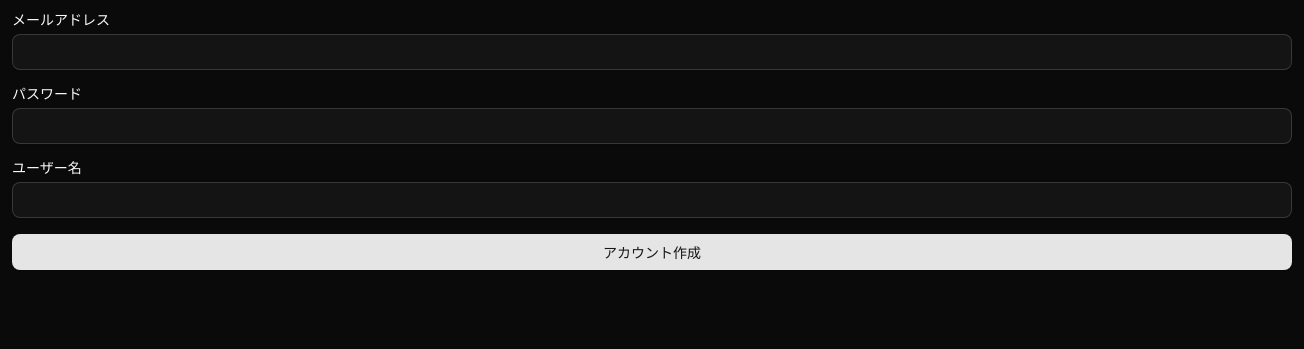
Test: SignupForm › shows fallback error when signup rejects with non-Error
In the field labelled "メールアドレス": [652, 52] box [12,34,1292,70], type "dj@example.com"
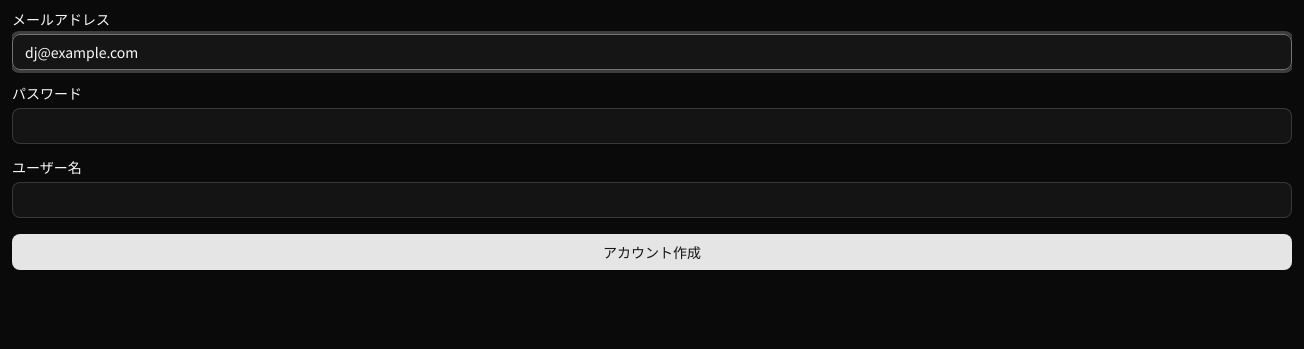
In the password field labelled "パスワード": [652, 126] box [12,108,1292,144], type "P@ssw0rd123"
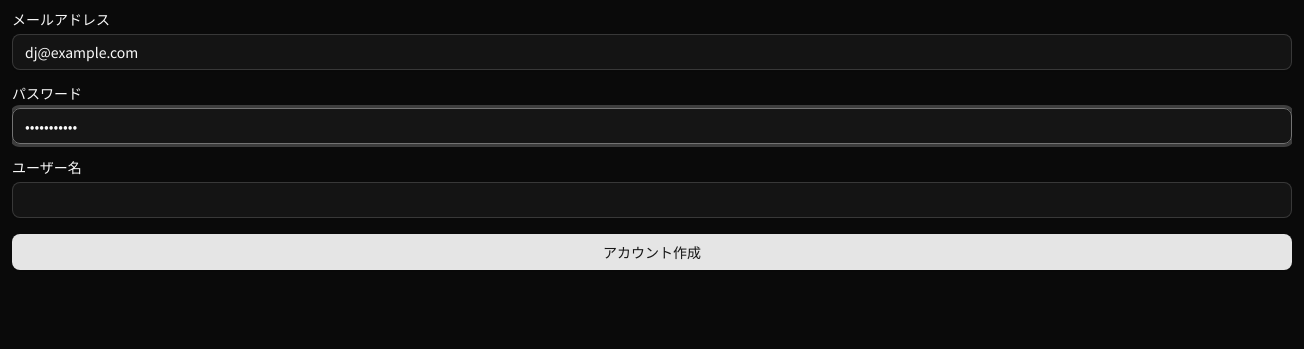
In the field labelled "ユーザー名": [652, 200] box [12,182,1292,218], type "DJName"
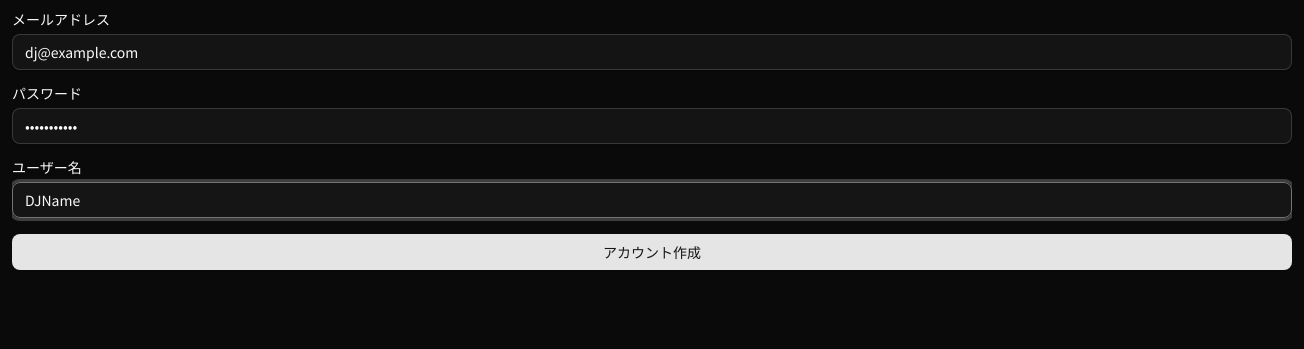
Click the button "アカウント作成": [652, 252] box [12,234,1292,270]
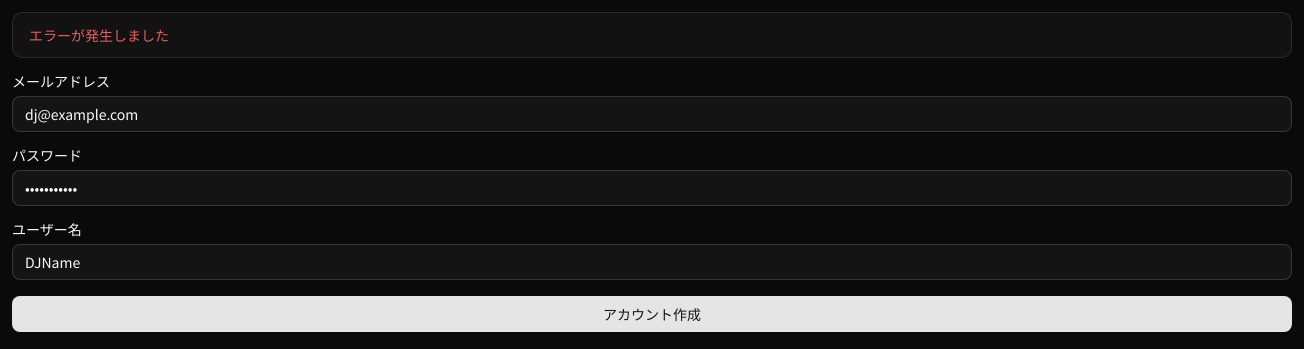
Expected: the message reads "エラーが発生しました", [29,25,169,45]
